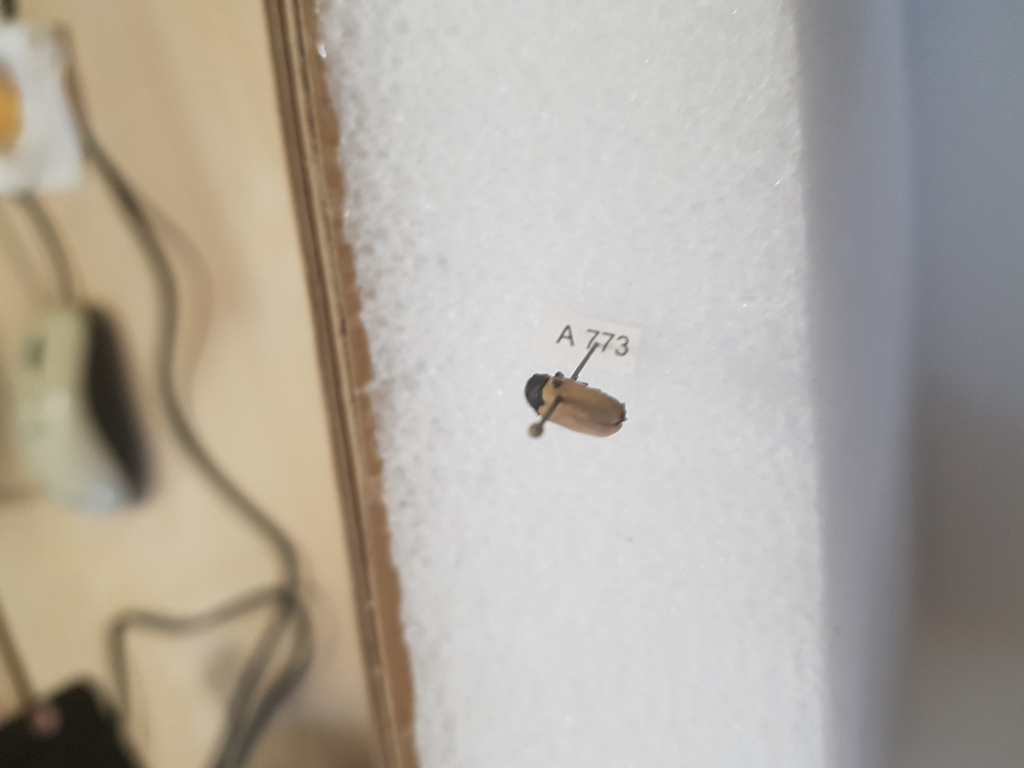Labidostomis_propinqua: (525, 371, 633, 440)
